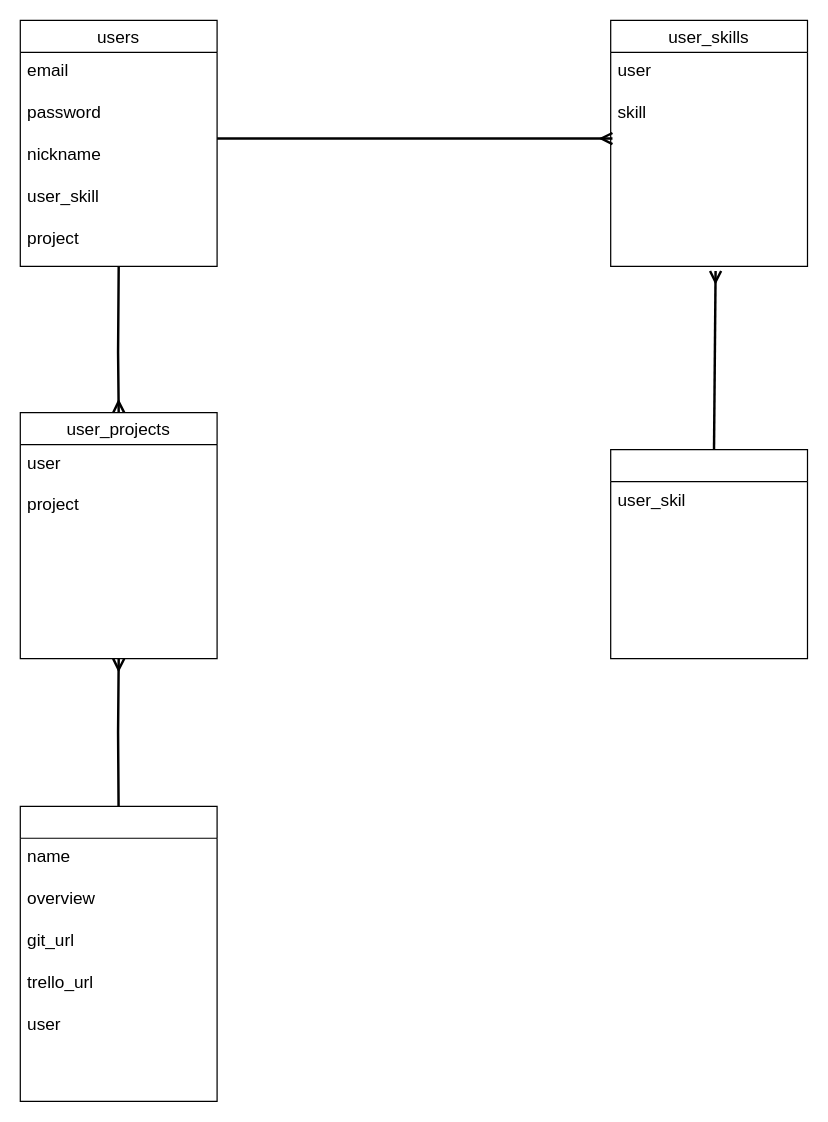
Image size: 828x1122. Some labels were removed from this diagram. Here are the shapes that lost their labels. From the top down, the box of each, then its label:
(609, 448, 807, 659): skills
(19, 805, 217, 1101): projects
